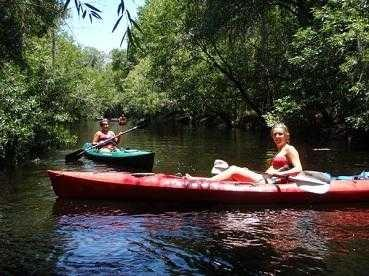kayak: (47, 166, 367, 208), (81, 142, 155, 172)
